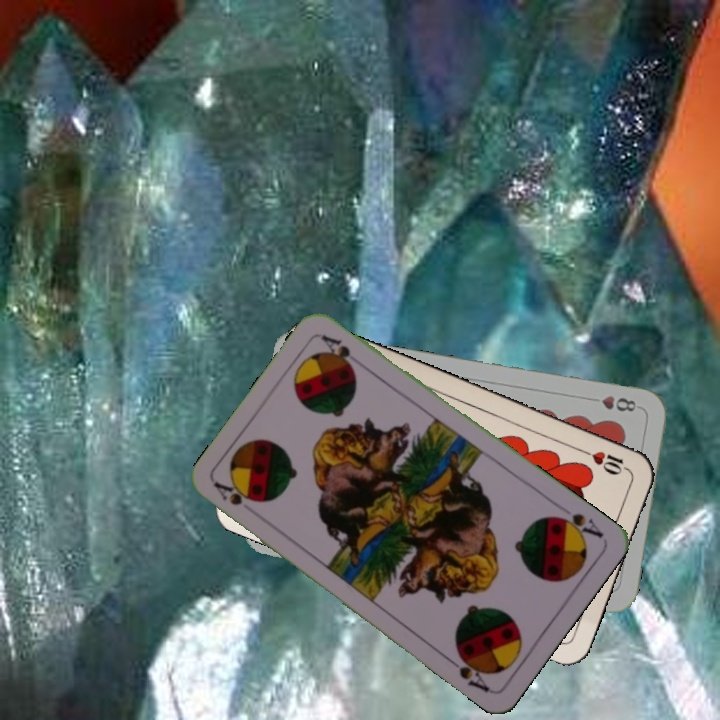H10: (577, 445, 633, 478)
H8: (598, 391, 639, 415)
SA: (549, 509, 606, 543), (210, 478, 257, 508)
